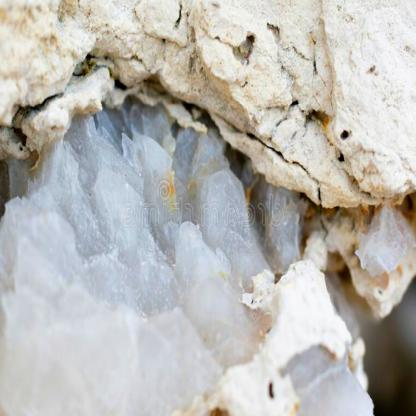Sedimentary_Limestone: (214, 260, 382, 415)
